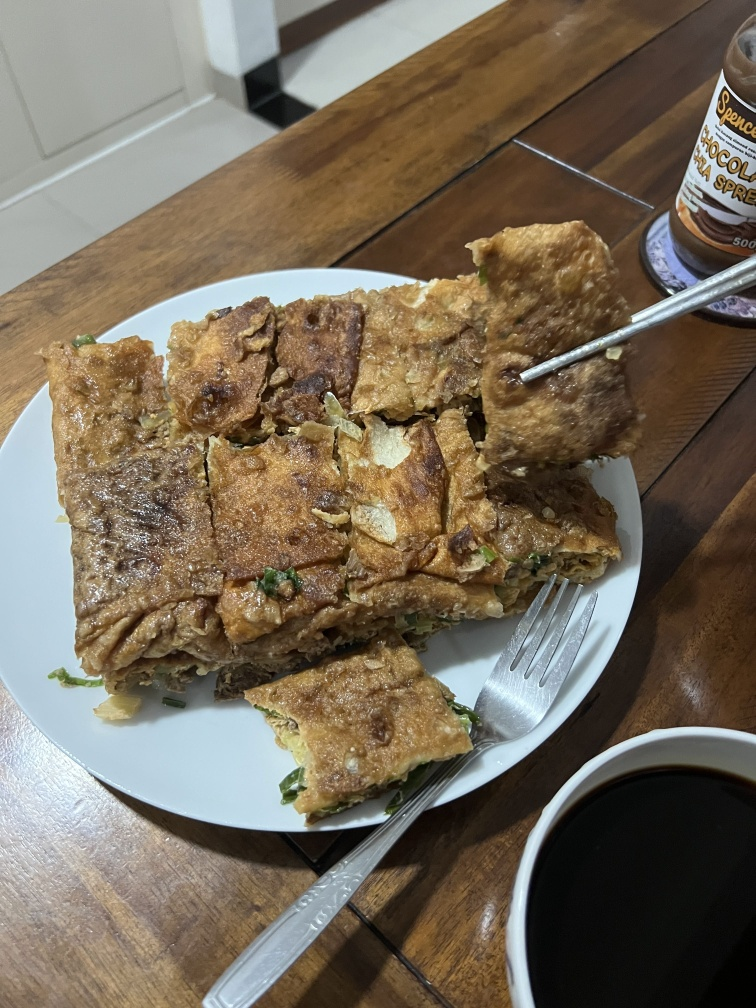martabak telor: (471, 211, 653, 449), (45, 443, 219, 684), (227, 650, 465, 815), (337, 401, 501, 619), (213, 410, 359, 647), (44, 328, 184, 471), (354, 263, 477, 407), (260, 278, 364, 429), (164, 309, 275, 431)
